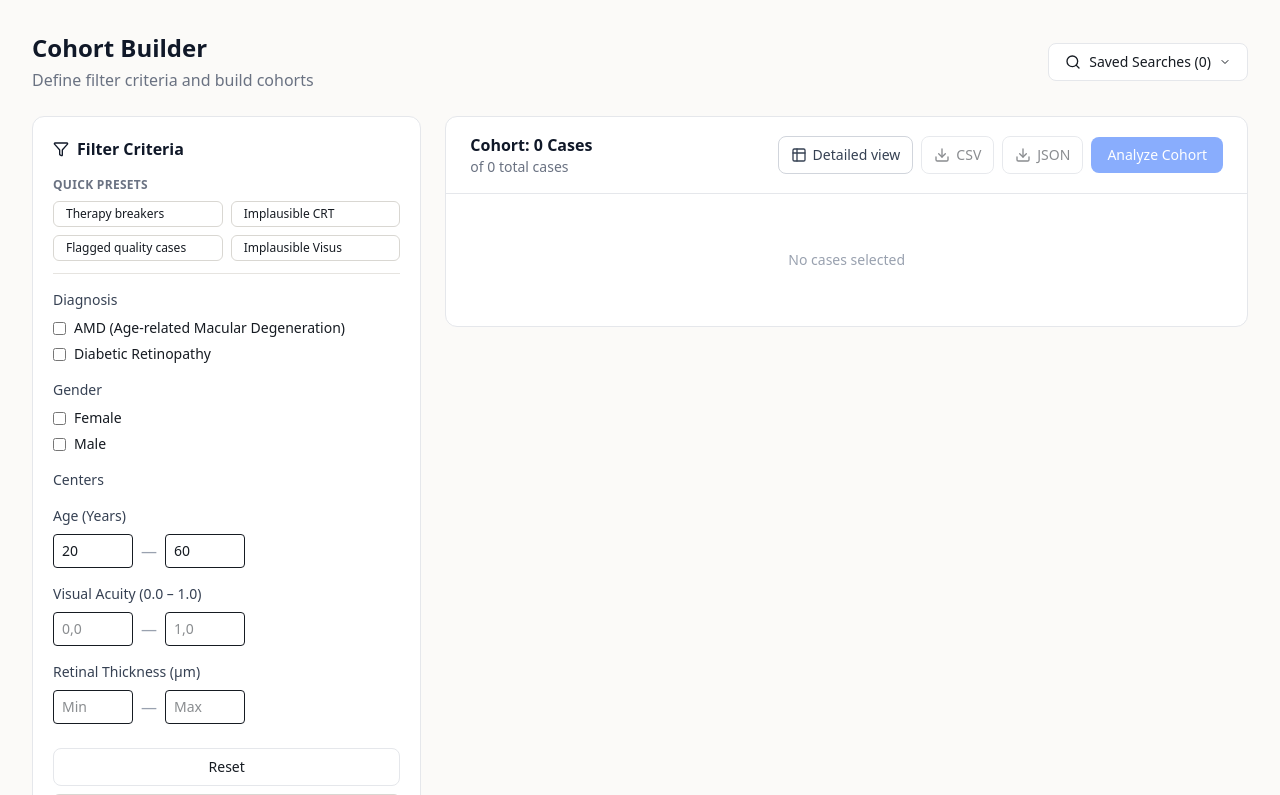
Test case: cohortFilterPersistence — COH-02 sessionStorage round-trip › Reset button clears filters and removes sessionStorage key
The width and height of the screenshot is (1280, 795).
Expected: the 1st number field with placeholder "Min" holds "20", top-left (53, 534), bottom-right (133, 568)
Click the button "Reset" at {"x": 227, "y": 767}, box top-left (53, 748), bottom-right (400, 786)
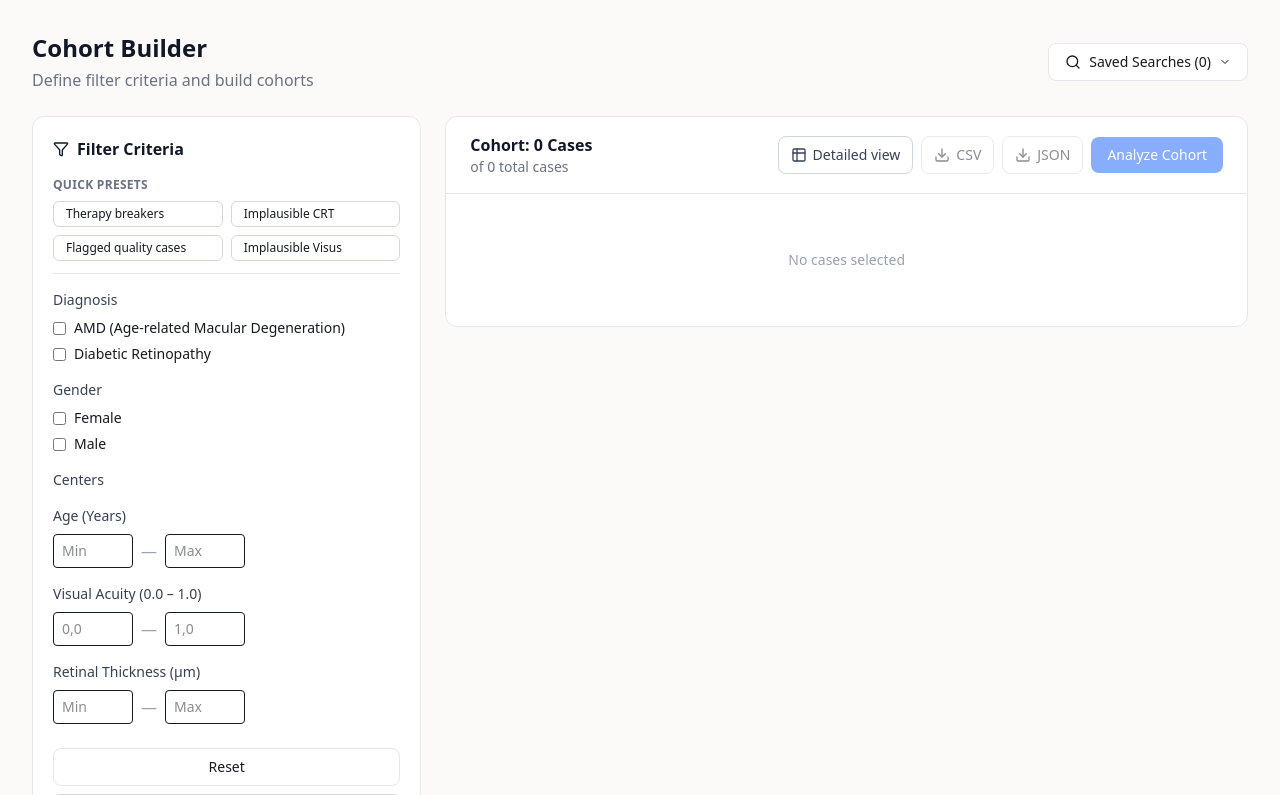
Now the number field with placeholder "Min" below "Age (Years)" is empty, box top-left (53, 534), bottom-right (133, 568)
